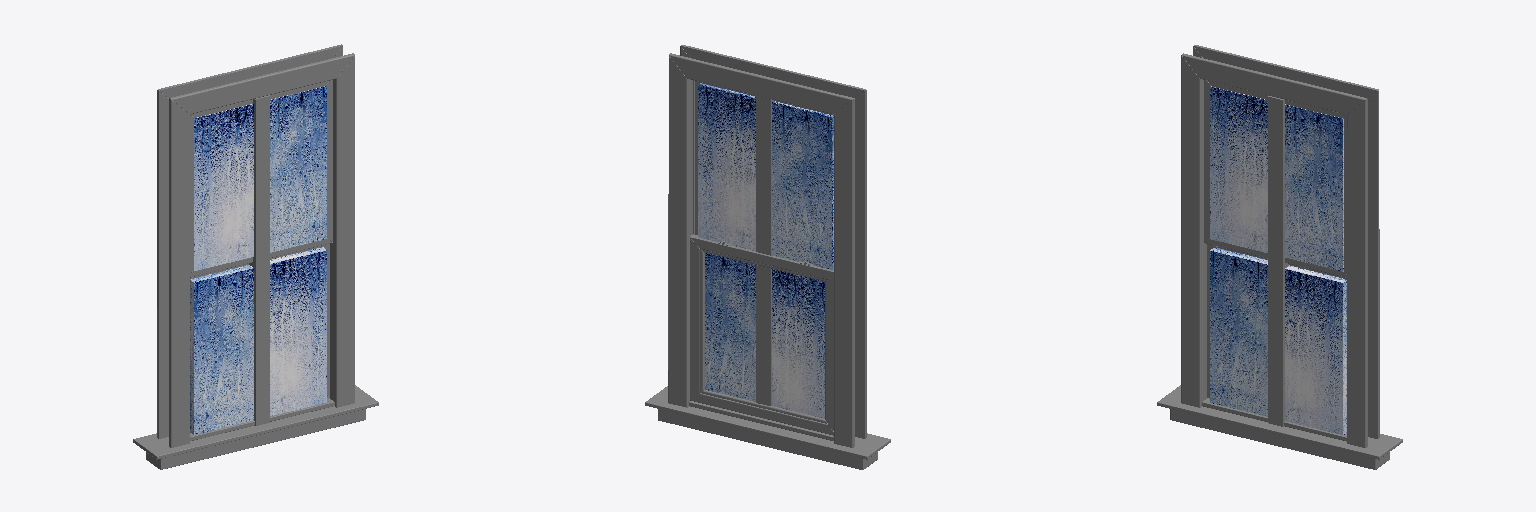
3 views of the same model, side by side, from view 1: azimuth 30°, elevation 25°; view 2: azimuth 150°, elevation 25°; view 3: azimuth 330°, elevation 25° (orthographic).
Parts seen in each view (by area): view 1: Box003, Box002, Window_Exterior_trim_01_Trim_vertival_02, Window_Exterior_trim_01_Trim_vertival_01, Box001, Window_Interior_Trim_01_Trim_vertival_011, Window_Exterior_trim_01_Trim__horizontal_, Window_Stool_cap, Window_Apron, Window_Interior_Trim_01_Trim__horizontal_1, Window_Objekt_01, Window_Objekt_02_Leaf_Leaf__vertical_021 (+3 smaller); view 2: Box002, Box003, Window_Interior_Trim_01_Trim_vertival_011, Window_Interior_Trim_01_Trim__vertival_02, Box001, Window_Exterior_trim_01_Trim_vertival_02, Window_Interior_Trim_01_Trim__horizontal_1, Window_Stool_cap, Window_Apron, Window_Exterior_trim_01_Trim__horizontal_, Window_Objekt_01, Window_Objekt_03_Leaf1_Leaf__vertical_02 (+5 smaller); view 3: Box003, Box002, Window_Exterior_trim_01_Trim_vertival_01, Window_Exterior_trim_01_Trim_vertival_02, Box001, Window_Interior_Trim_01_Trim__vertival_02, Window_Exterior_trim_01_Trim__horizontal_, Window_Stool_cap, Window_Apron, Window_Interior_Trim_01_Trim__horizontal_1, Window_Objekt_01, Window_Objekt_02_Leaf_Leaf__vertical_011 (+2 smaller).
Part boxes in pixels (left/top/right/bottom): Box003: left=190, top=247, right=326, bottom=434; Box002: left=194, top=86, right=326, bottom=270; Window_Exterior_trim_01_Trim_vertival_02: left=169, top=98, right=189, bottom=447; Window_Exterior_trim_01_Trim_vertival_01: left=335, top=56, right=354, bottom=407; Box001: left=249, top=95, right=269, bottom=425; Window_Interior_Trim_01_Trim_vertival_011: left=157, top=90, right=168, bottom=438; Window_Exterior_trim_01_Trim__horizontal_: left=170, top=53, right=354, bottom=113; Window_Stool_cap: left=133, top=385, right=378, bottom=459; Window_Apron: left=146, top=409, right=365, bottom=469; Window_Interior_Trim_01_Trim__horizontal_1: left=158, top=44, right=342, bottom=97; Window_Objekt_01: left=190, top=79, right=334, bottom=440; Window_Objekt_02_Leaf_Leaf__vertical_021: left=326, top=80, right=332, bottom=241; Box002: left=698, top=83, right=833, bottom=269; Box003: left=705, top=253, right=824, bottom=418; Window_Interior_Trim_01_Trim_vertival_011: left=834, top=98, right=854, bottom=447; Window_Interior_Trim_01_Trim__vertival_02: left=668, top=56, right=688, bottom=407; Box001: left=756, top=96, right=773, bottom=405; Window_Exterior_trim_01_Trim_vertival_02: left=855, top=90, right=866, bottom=438; Window_Interior_Trim_01_Trim__horizontal_1: left=669, top=53, right=853, bottom=114; Window_Stool_cap: left=645, top=386, right=890, bottom=459; Window_Apron: left=658, top=409, right=877, bottom=469; Window_Exterior_trim_01_Trim__horizontal_: left=681, top=45, right=865, bottom=97; Window_Objekt_01: left=689, top=79, right=833, bottom=440; Window_Objekt_03_Leaf1_Leaf__vertical_02: left=690, top=238, right=699, bottom=399; Box003: left=1210, top=248, right=1346, bottom=434; Box002: left=1210, top=86, right=1343, bottom=271; Window_Exterior_trim_01_Trim_vertival_01: left=1347, top=99, right=1367, bottom=447; Window_Exterior_trim_01_Trim_vertival_02: left=1181, top=55, right=1201, bottom=407; Box001: left=1268, top=96, right=1288, bottom=426; Window_Interior_Trim_01_Trim__vertival_02: left=1368, top=90, right=1379, bottom=438; Window_Exterior_trim_01_Trim__horizontal_: left=1182, top=53, right=1366, bottom=114; Window_Stool_cap: left=1157, top=385, right=1402, bottom=459; Window_Apron: left=1170, top=409, right=1389, bottom=469; Window_Interior_Trim_01_Trim__horizontal_1: left=1194, top=45, right=1378, bottom=98; Window_Objekt_01: left=1202, top=80, right=1346, bottom=441; Window_Objekt_02_Leaf_Leaf__vertical_011: left=1204, top=80, right=1210, bottom=242.
Size of the model in its own units: 1049 by 1660 by 196.
Materials: 2 (1 with a texture image).